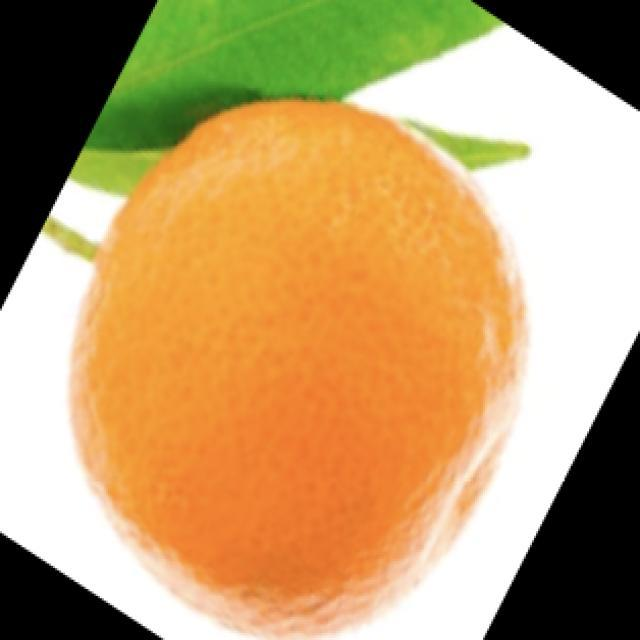Orange: (67, 96, 527, 639)
